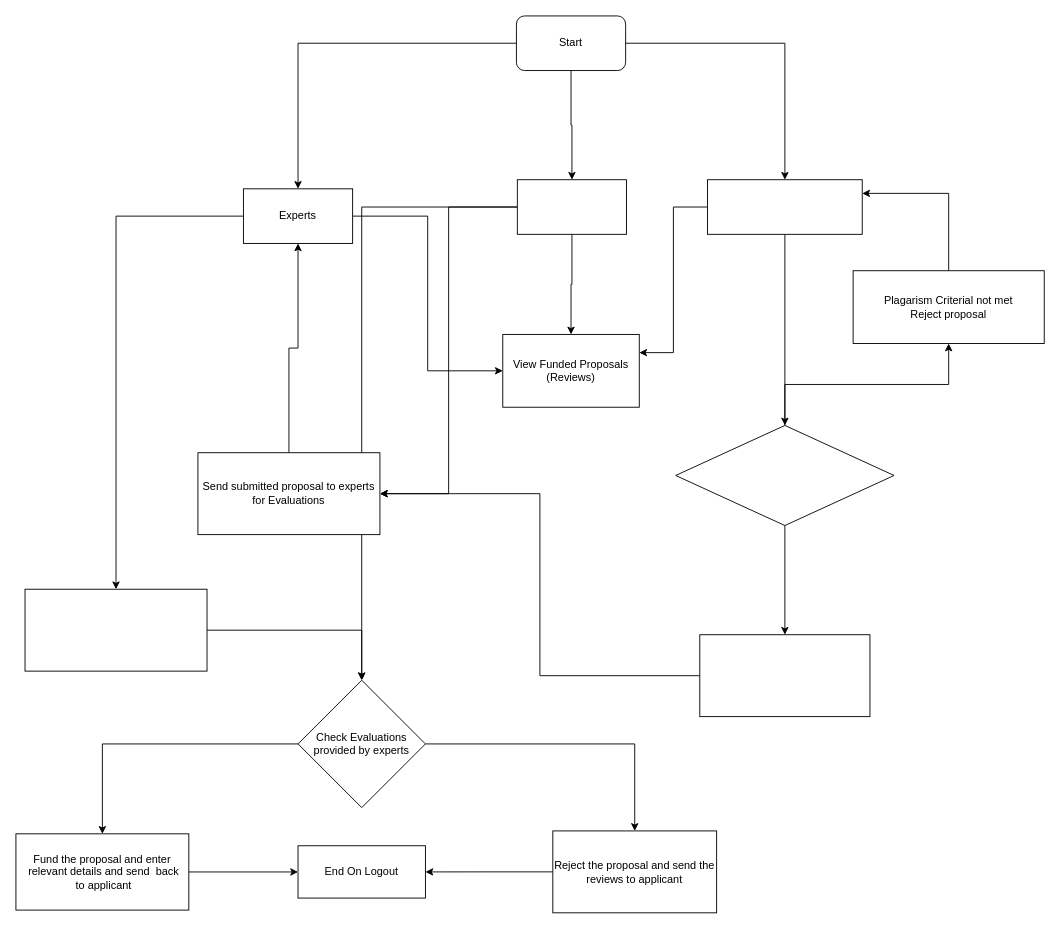
The diagram is 1060 pixels wide and 929 high, and some of its shapes have lost their labels. The centre of each missing label's shape, as x and y in pixels:
"Create , Edit , submit proposal for plague Check" belongs at point (784, 475).
"Funders" belongs at point (571, 206).
"Plagarism Criterial Satisfied Submit for evaluation" belongs at point (784, 675).
"Provide Evaluations for submitted proposals and Send to Admin" belongs at point (115, 629).
"User" belongs at point (784, 206).
